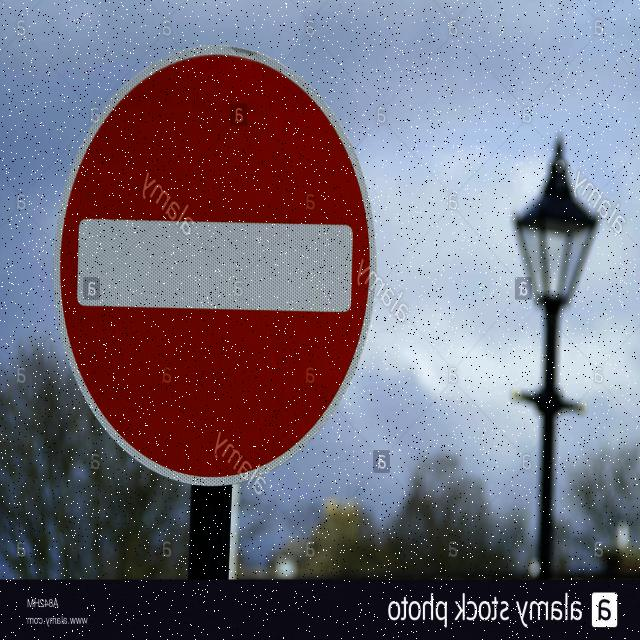no entry: (57, 44, 375, 488)
